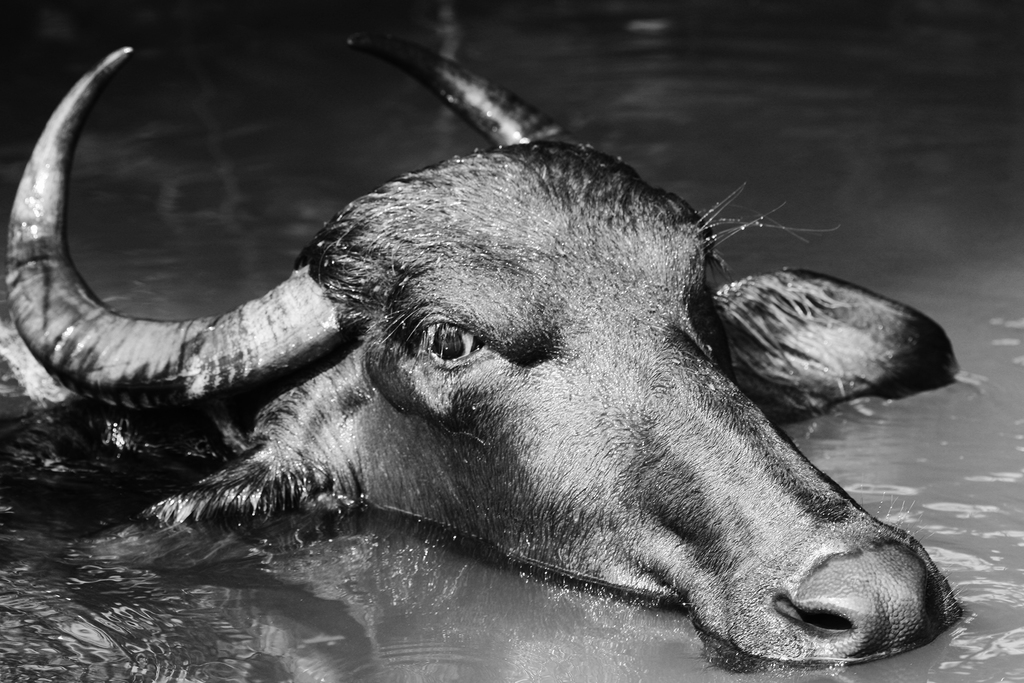Animal: (0, 45, 962, 673)
